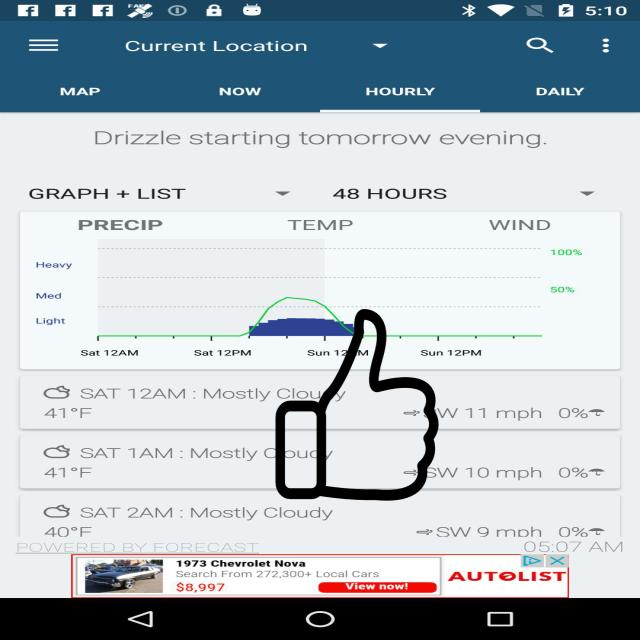privacy zuckering: (273, 309, 441, 501)
